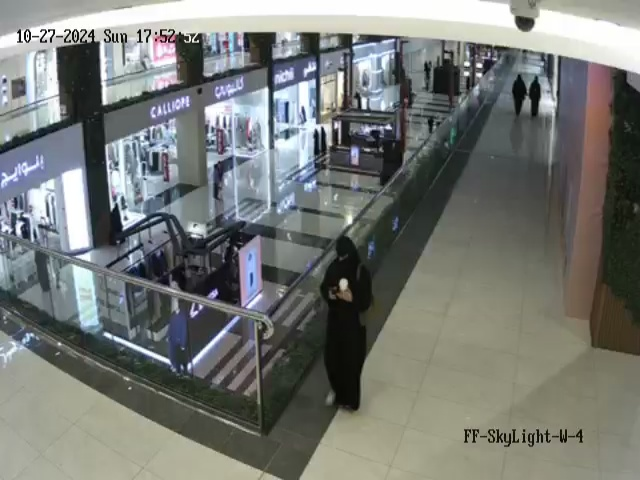female: (319, 235, 373, 413), (512, 74, 527, 117), (528, 75, 542, 118)
other: (162, 297, 192, 384)
